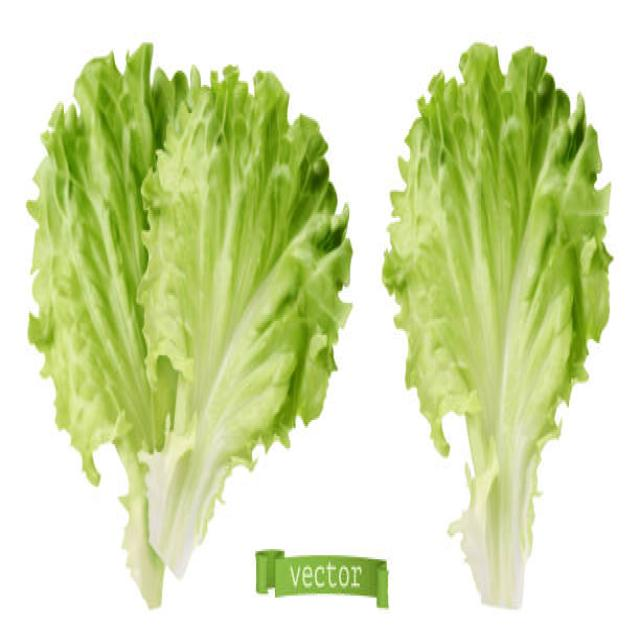lettuce: (25, 40, 354, 608), (381, 38, 614, 610)
